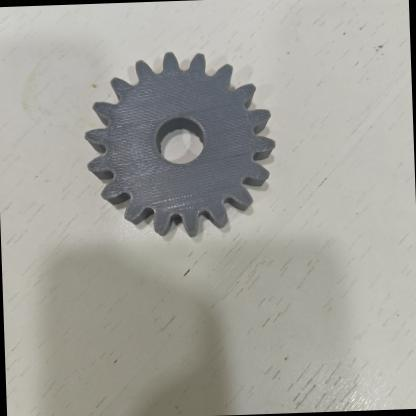gear: (69, 40, 288, 252)
